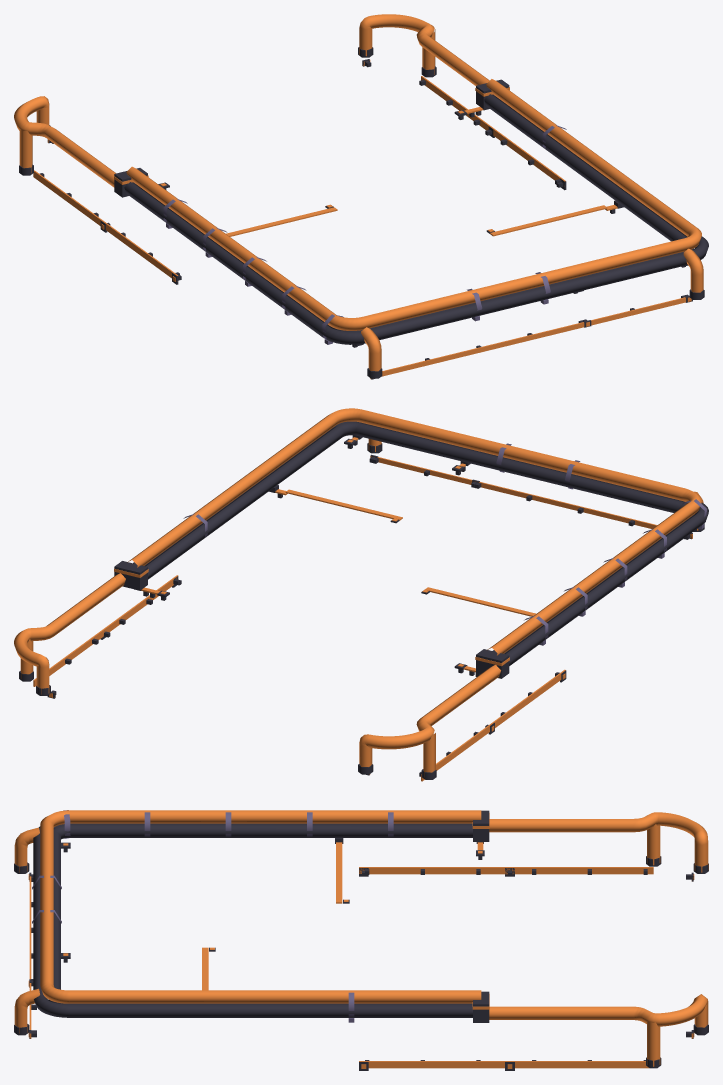
Rendered from power_bus.glb.
3 views of the same model, one above another, from view 1: azimuth 30°, elevation 25°; view 2: azimuth 150°, elevation 25°; view 3: azimuth 270°, elevation 25° (orthographic). The views are drawn at different scales.
Visible parts, largest first — view 1: harness_bundle; view 2: harness_bundle; view 3: harness_bundle.
Boxes of the visible parts, x1,y1,x2,y2 form: harness_bundle: [14, 14, 708, 379]; harness_bundle: [14, 408, 708, 781]; harness_bundle: [14, 810, 708, 1070].
Size of the model in its own units: 1.21 by 0.1987 by 1.71.
